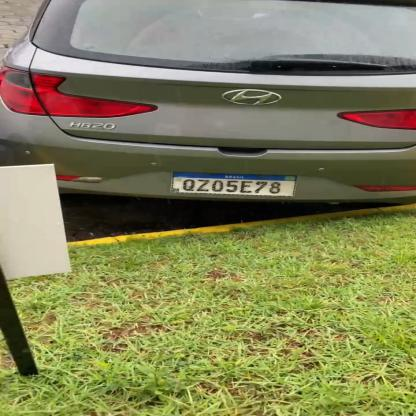Plate: (168, 168, 306, 203)
